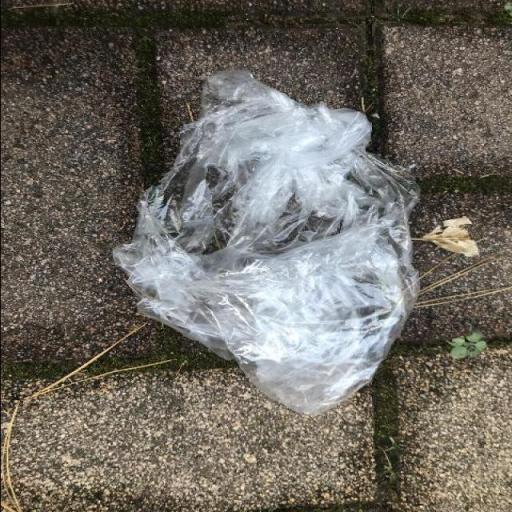plastic-bag: (104, 66, 430, 416)
